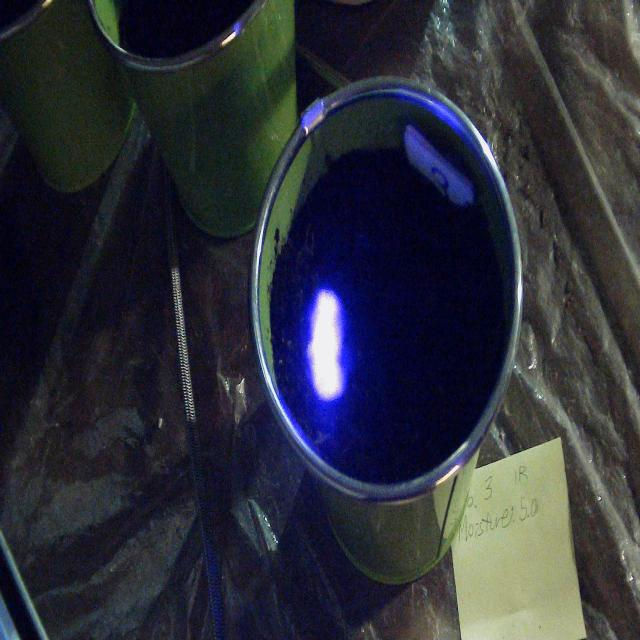soil-moisture-5.0: (305, 288, 349, 401)
